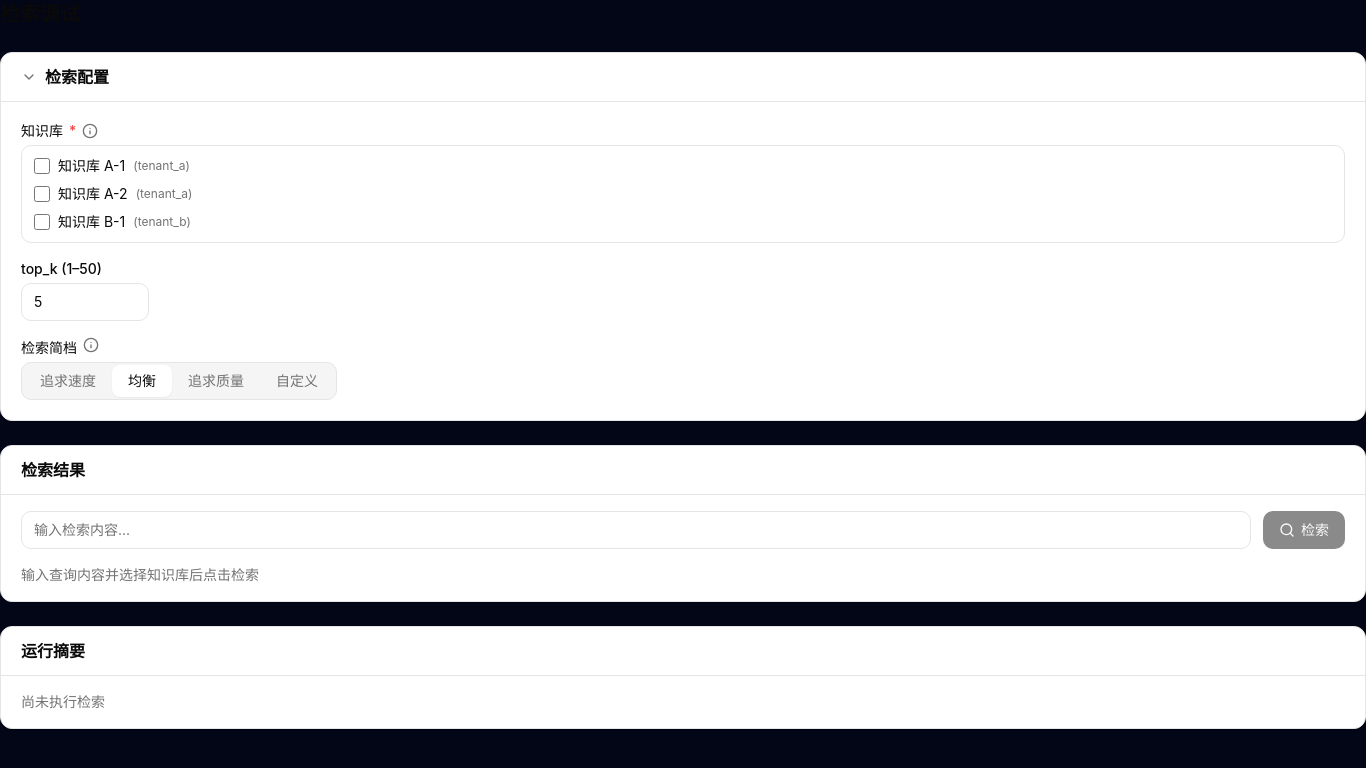
Test: RetrievePage › 分数 chips 应有值才显示，null 隐藏
Click the checkbox labelled "知识库 A-1".
click(42, 166)  # box [34, 158, 50, 174]
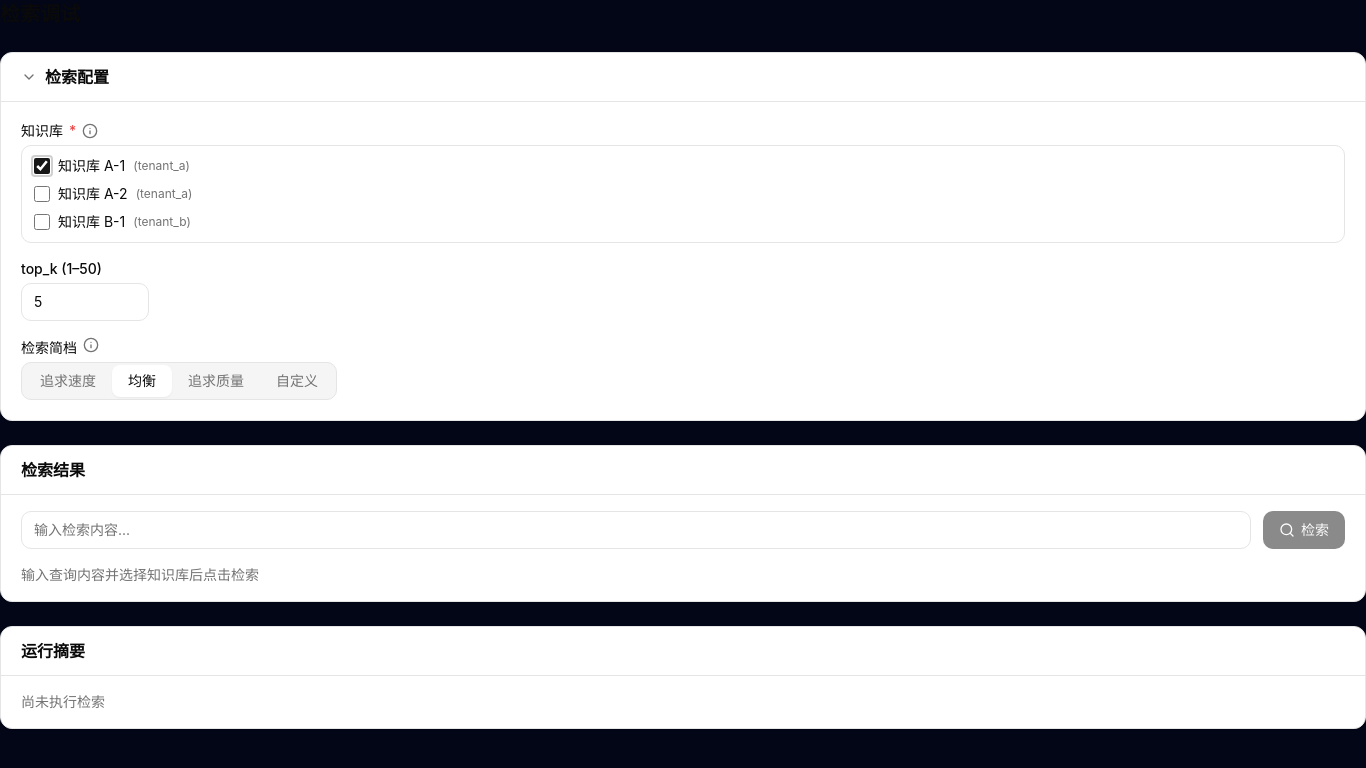
Type "test" into the field with placeholder "输入检索内容...".
click(636, 530); type("test")  # box [21, 511, 1251, 549]
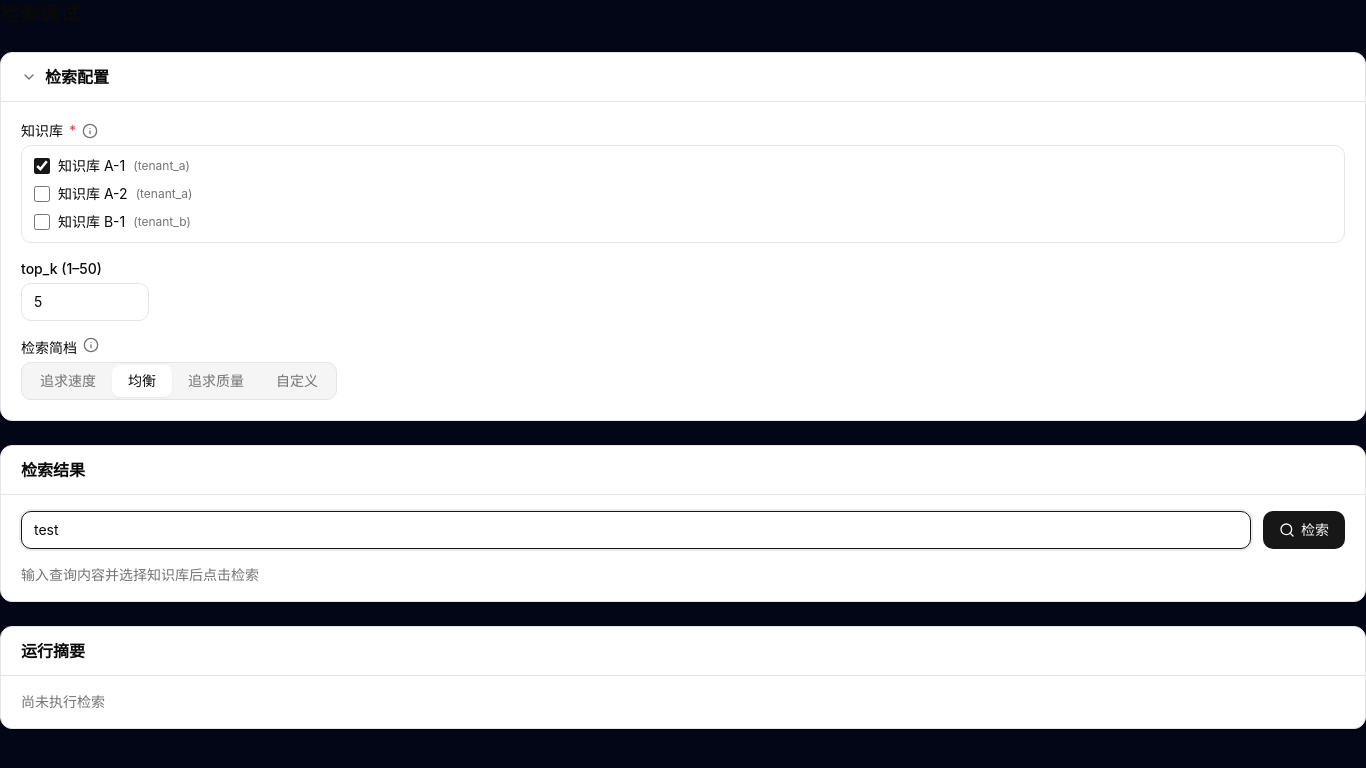
Click the button "检索".
click(1304, 530)  # box [1263, 511, 1345, 549]
(page scrolled)
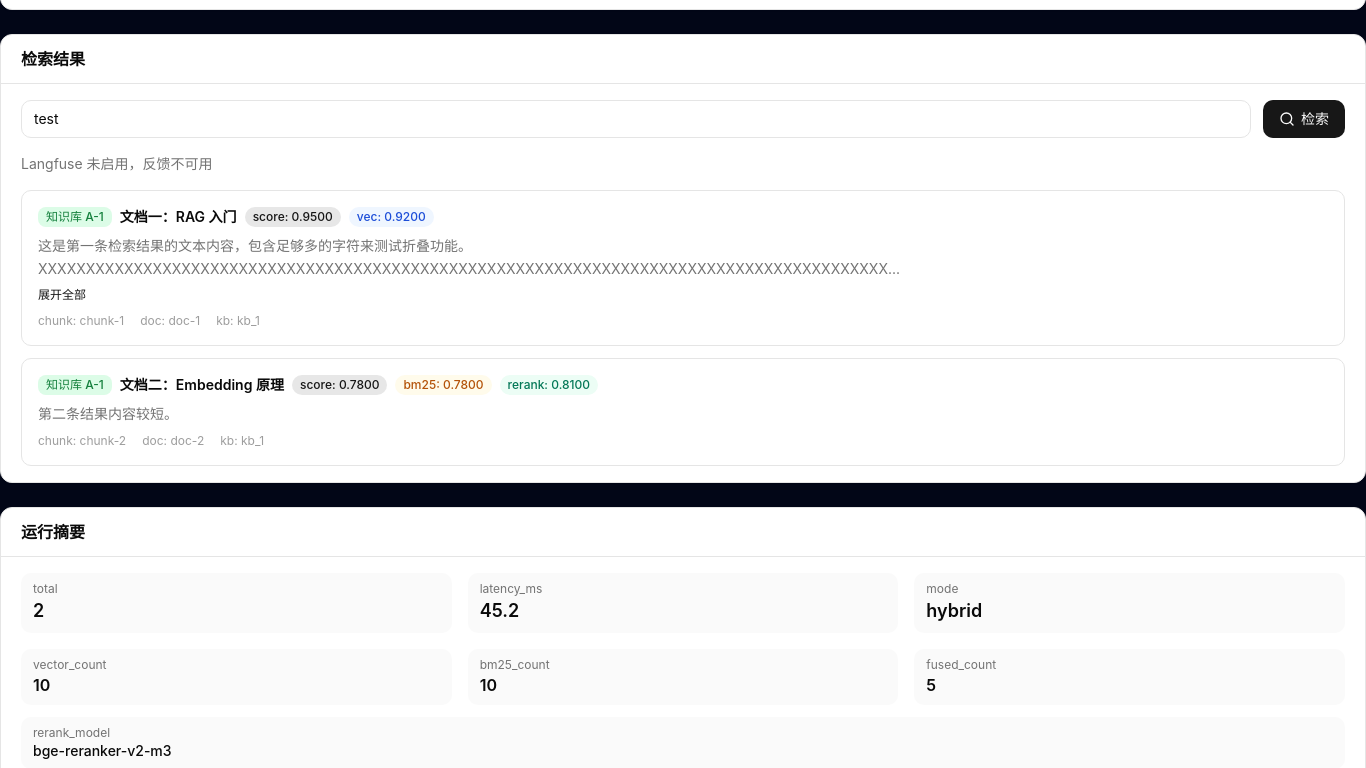
expect the text "score: 0.9500" is shown: met, box [245, 207, 341, 227]
expect the text "vec: 0.9200" is shown: met, box [349, 207, 434, 227]
expect the text "score: 0.7800" is shown: met, box [292, 374, 387, 394]
